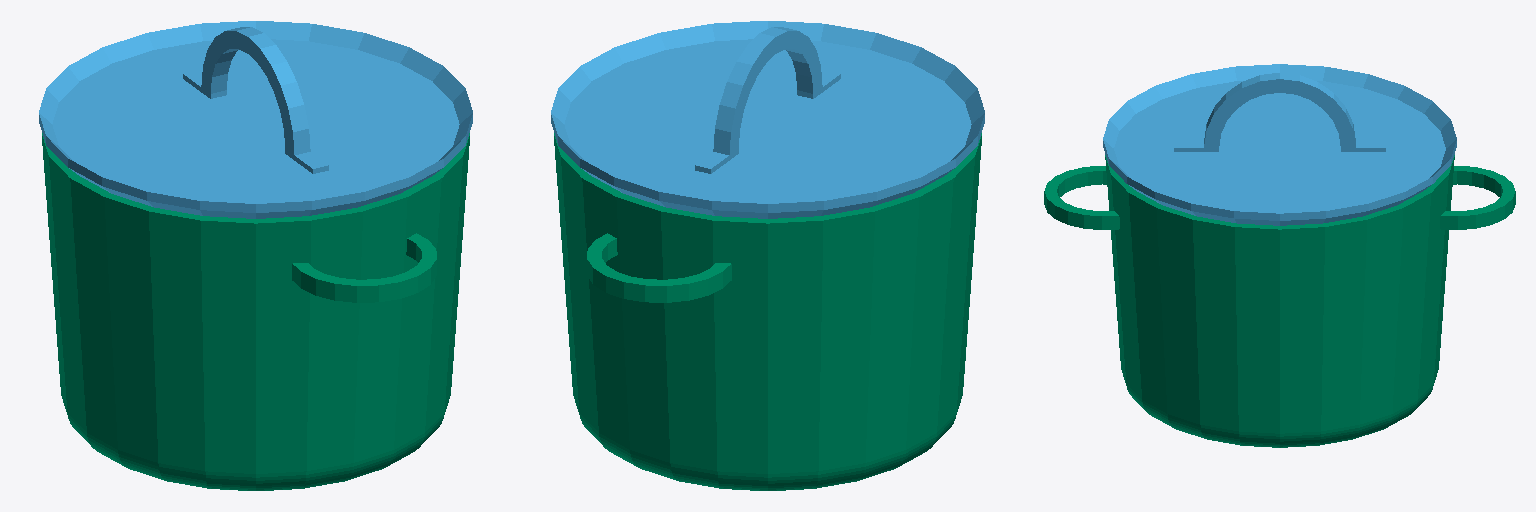
URDF robot description (partnet_a5b87eca5bbd0342b80b68728684f2ff-0):
<?xml version="1.0" ?>
<robot name="partnet_a5b87eca5bbd0342b80b68728684f2ff-0">
	<link name="base"/>
	<link name="link_0">
		<visual name="lid-1">
			<origin xyz="0 0 0"/>
			<geometry>
				<mesh filename="textured_objs/original-2.obj"/>
			</geometry>
		</visual>
		<visual name="lid-1">
			<origin xyz="0 0 0"/>
			<geometry>
				<mesh filename="textured_objs/original-3.obj"/>
			</geometry>
		</visual>
		<collision>
			<origin xyz="0 0 0"/>
			<geometry>
				<mesh filename="textured_objs/original-2.obj"/>
			</geometry>
		</collision>
		<collision>
			<origin xyz="0 0 0"/>
			<geometry>
				<mesh filename="textured_objs/original-3.obj"/>
			</geometry>
		</collision>
	</link>
	<joint name="joint_0" type="prismatic">
		<origin xyz="0 0 0"/>
		<axis xyz="0 1 0"/>
		<child link="link_0"/>
		<parent link="link_1"/>
		<limit lower="0" upper="0.02"/>
	</joint>
	<link name="link_1">
		<visual name="base_body-2">
			<origin xyz="0 0 0"/>
			<geometry>
				<mesh filename="textured_objs/original-5.obj"/>
			</geometry>
		</visual>
		<visual name="base_body-2">
			<origin xyz="0 0 0"/>
			<geometry>
				<mesh filename="textured_objs/original-6.obj"/>
			</geometry>
		</visual>
		<visual name="base_body-2">
			<origin xyz="0 0 0"/>
			<geometry>
				<mesh filename="textured_objs/original-7.obj"/>
			</geometry>
		</visual>
		<collision>
			<origin xyz="0 0 0"/>
			<geometry>
				<mesh filename="textured_objs/original-5.obj"/>
			</geometry>
		</collision>
		<collision>
			<origin xyz="0 0 0"/>
			<geometry>
				<mesh filename="textured_objs/original-6.obj"/>
			</geometry>
		</collision>
		<collision>
			<origin xyz="0 0 0"/>
			<geometry>
				<mesh filename="textured_objs/original-7.obj"/>
			</geometry>
		</collision>
	</link>
	<joint name="joint_1" type="fixed">
		<origin rpy="1.570796326794897 0 -1.570796326794897" xyz="0 0 0"/>
		<child link="link_1"/>
		<parent link="base"/>
	</joint>
</robot>

--- Facts derived from the render (not from the file) ---
Views: 3 orthographic renders of the robot side by side, from view 1: azimuth 30°, elevation 25°; view 2: azimuth 150°, elevation 25°; view 3: azimuth 270°, elevation 25°.
Model partnet_a5b87eca5bbd0342b80b68728684f2ff-0 with 3 links and 2 joints (1 prismatic, 1 fixed), rooted at base, posed every joint at zero.
Visible links, largest first — view 1: link_1, link_0; view 2: link_1, link_0; view 3: link_1, link_0.
Link boxes in pixels (x1=…): link_1: x1=42, y1=133, x2=469, y2=490; link_0: x1=39, y1=21, x2=472, y2=218; link_1: x1=554, y1=133, x2=981, y2=490; link_0: x1=551, y1=21, x2=984, y2=218; link_1: x1=1044, y1=155, x2=1515, y2=447; link_0: x1=1103, y1=64, x2=1456, y2=225.
Size in the robot's own frame: 1.49 by 1.99 by 1.46 metres.
5 mesh visuals loaded from 5 distinct referenced files (5 OBJ).